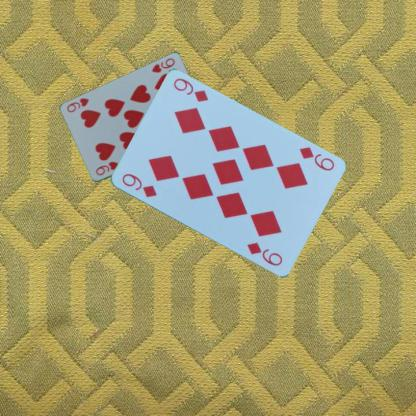9d: (119, 171, 158, 199), (297, 144, 335, 172)
9h: (93, 159, 120, 177), (149, 56, 176, 74)
